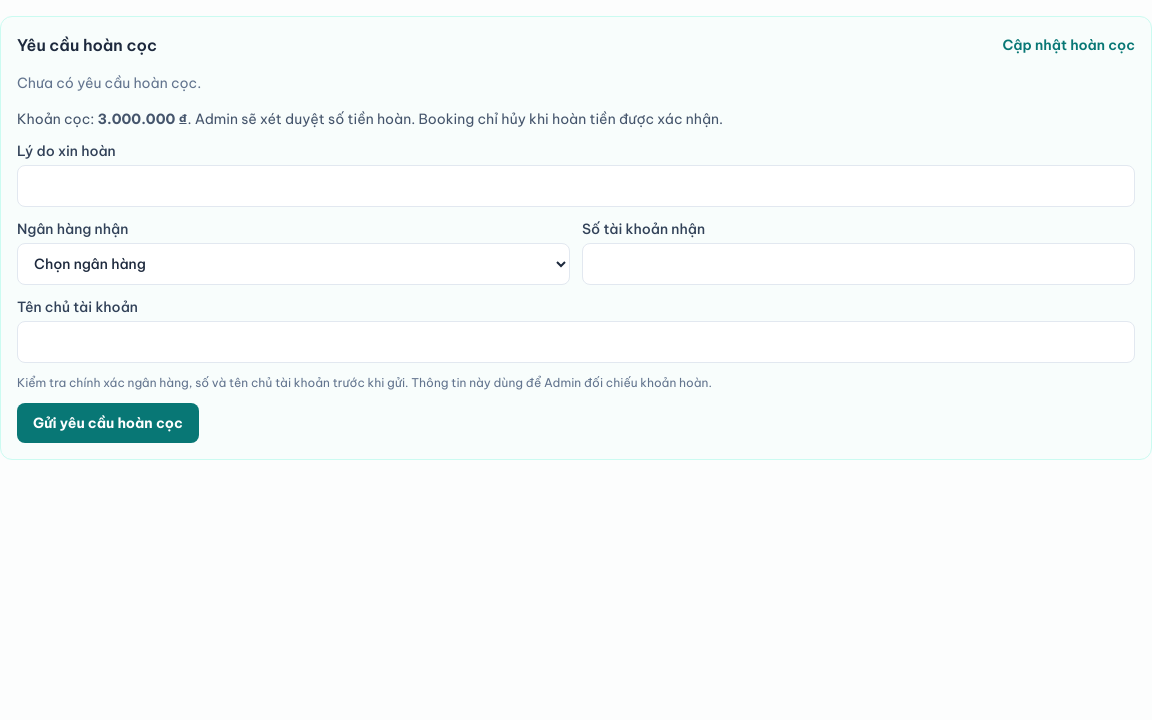
Test case: Customer refund form and tracking › validates account without converting it to a number
This screenshot has width=1152, height=720.
Type " Đổi kế hoạch " into the field labelled "Lý do xin hoàn" at (576, 186), box [17, 165, 1135, 207]
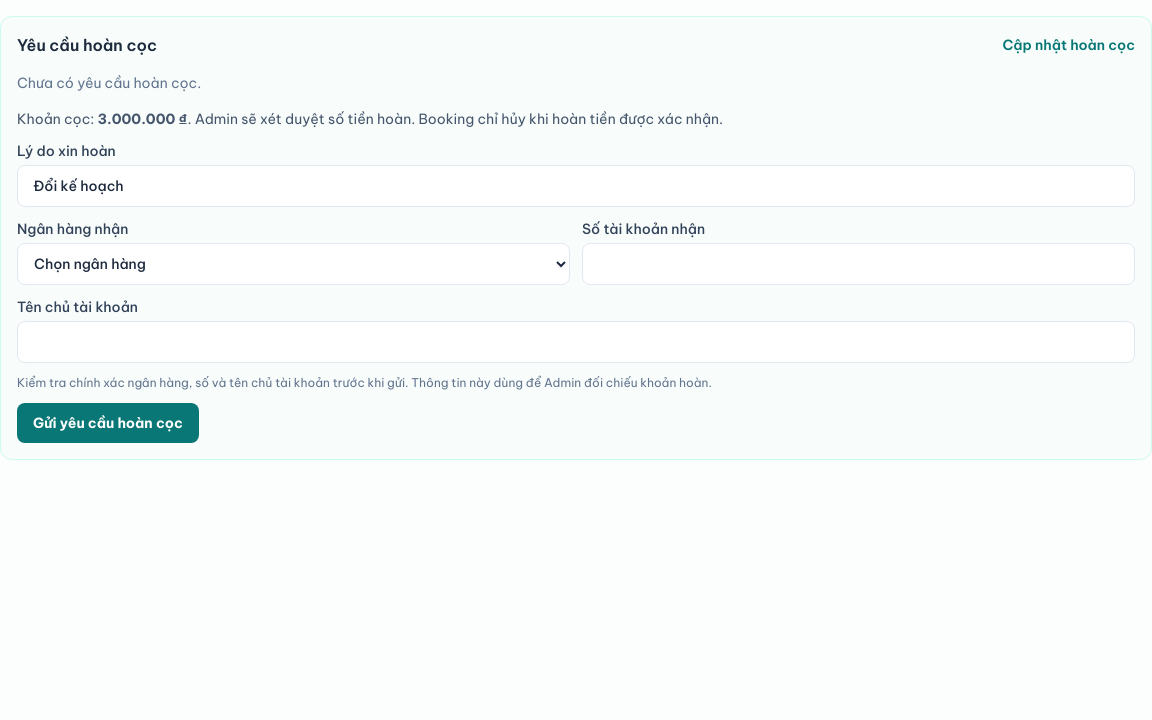
Select "MB Bank" in the dropdown labelled "Ngân hàng nhận" at (294, 264), box [17, 243, 570, 285]
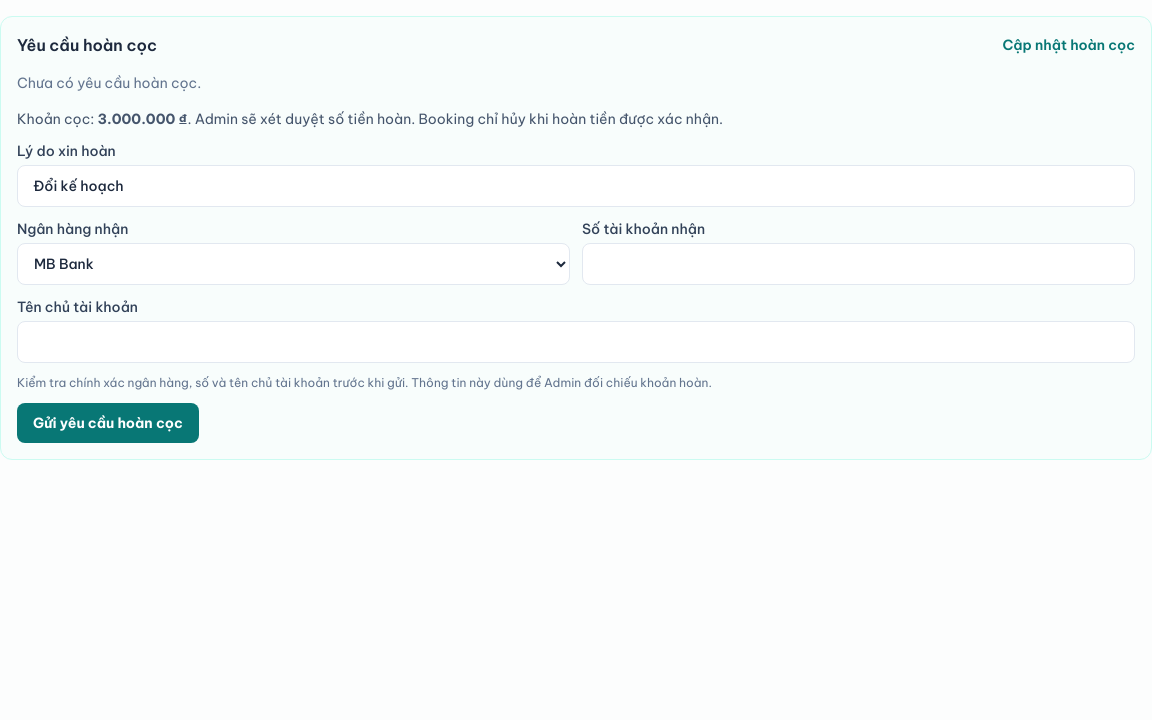
Type "001234567890" into the field labelled "Số tài khoản nhận" at (858, 264), box [582, 243, 1135, 285]
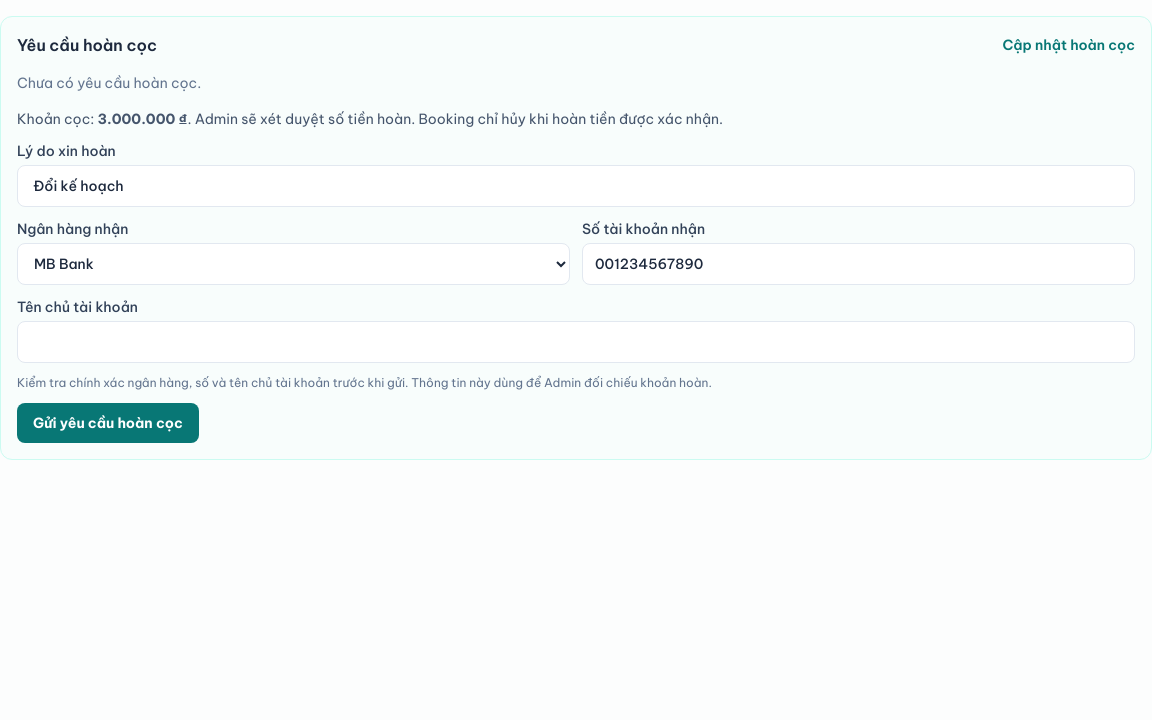
Type "NGUYEN AN" into the field labelled "Tên chủ tài khoản" at (576, 342), box [17, 321, 1135, 363]
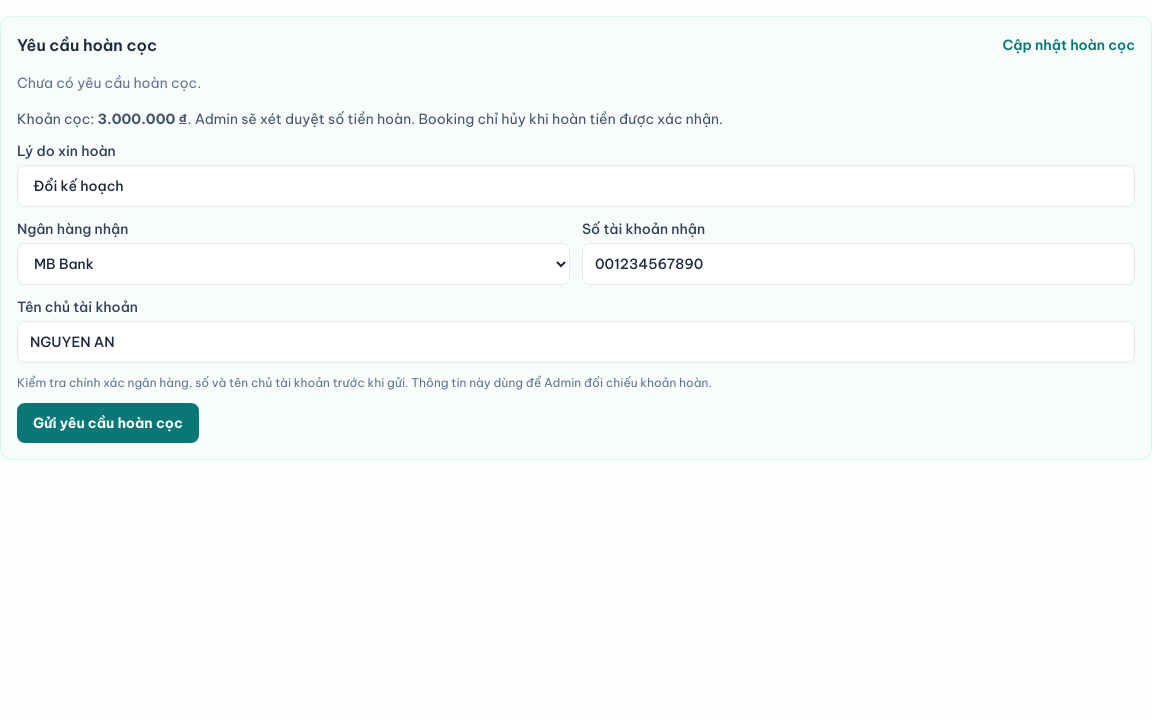
Replace the text in the field labelled "Số tài khoản nhận" with "12 34" at (858, 264), box [582, 243, 1135, 285]
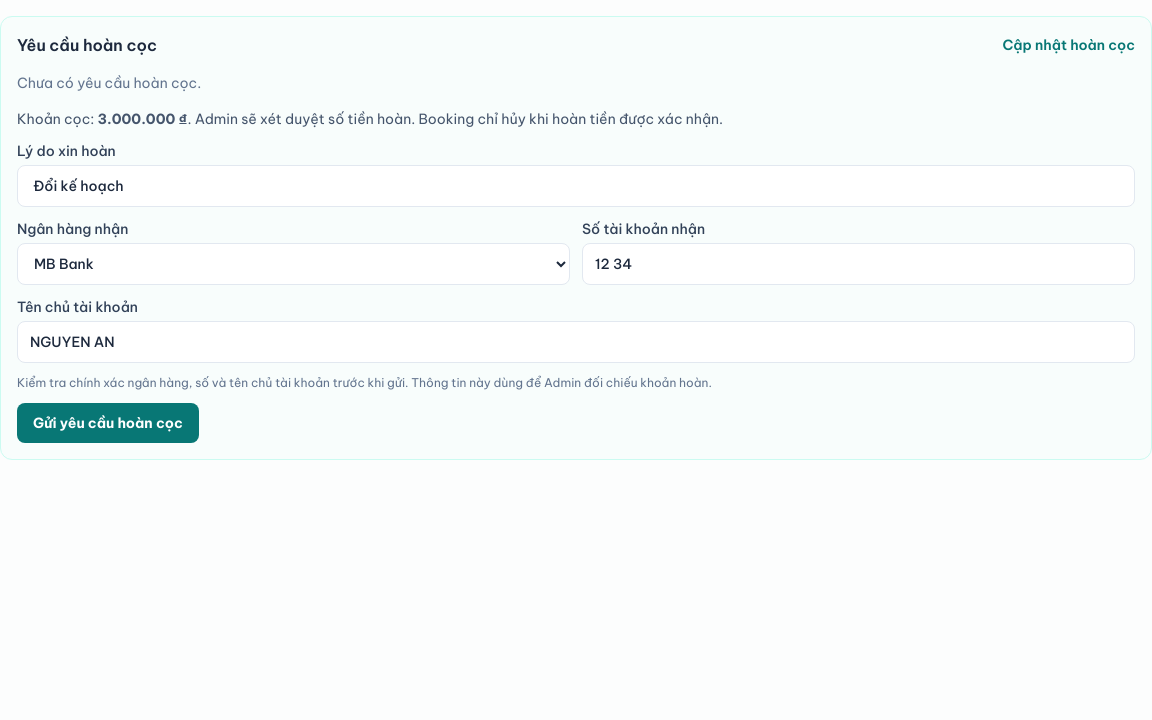
Submit the form named "Gửi yêu cầu hoàn cọc", box [17, 109, 1135, 443]
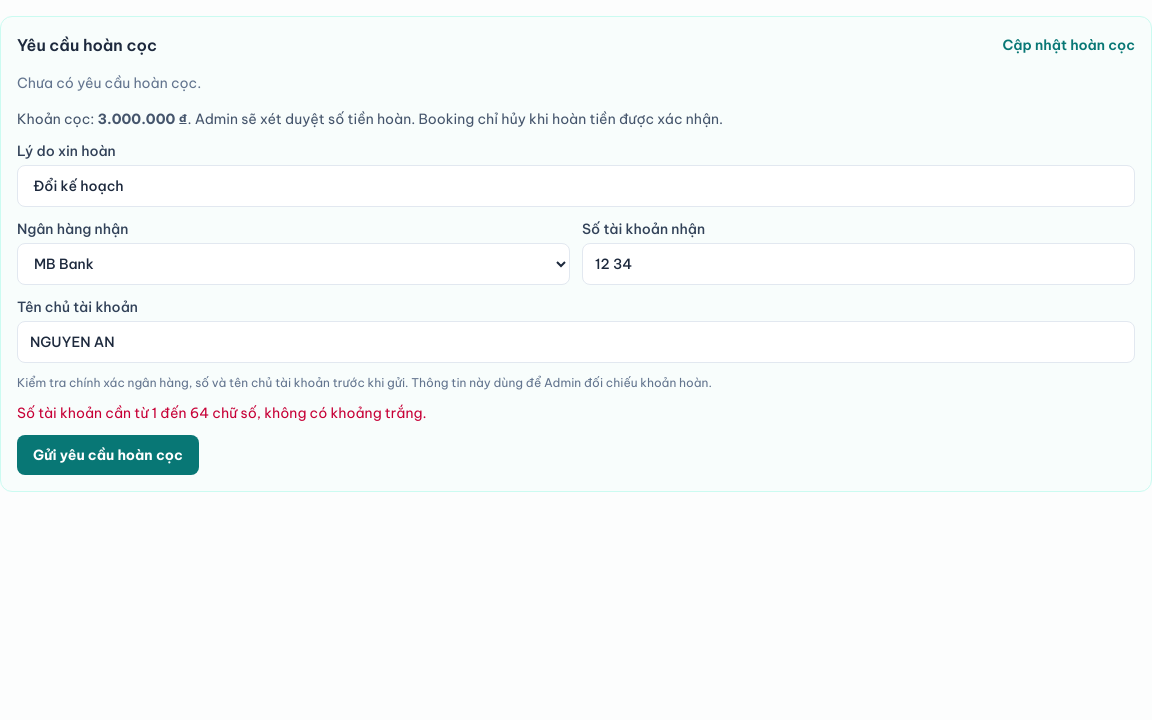
Now the message shows "không có khoảng trắng", box [17, 404, 426, 422]
